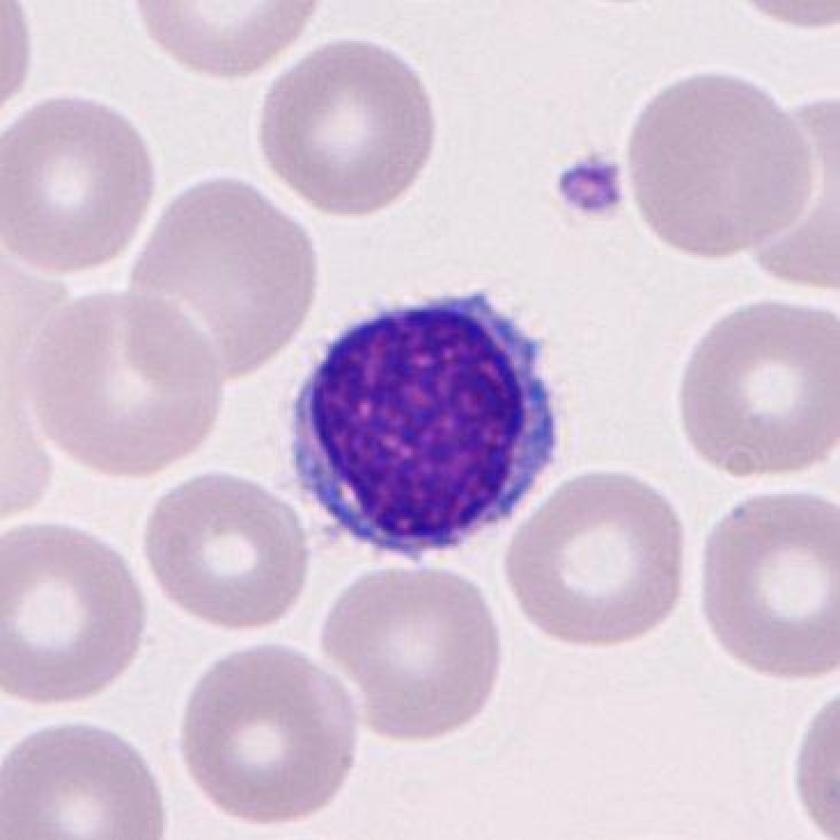lymphocyte: (274, 283, 570, 566)
